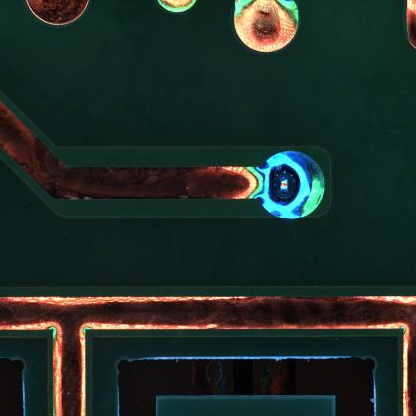spot: (260, 150, 326, 219)
